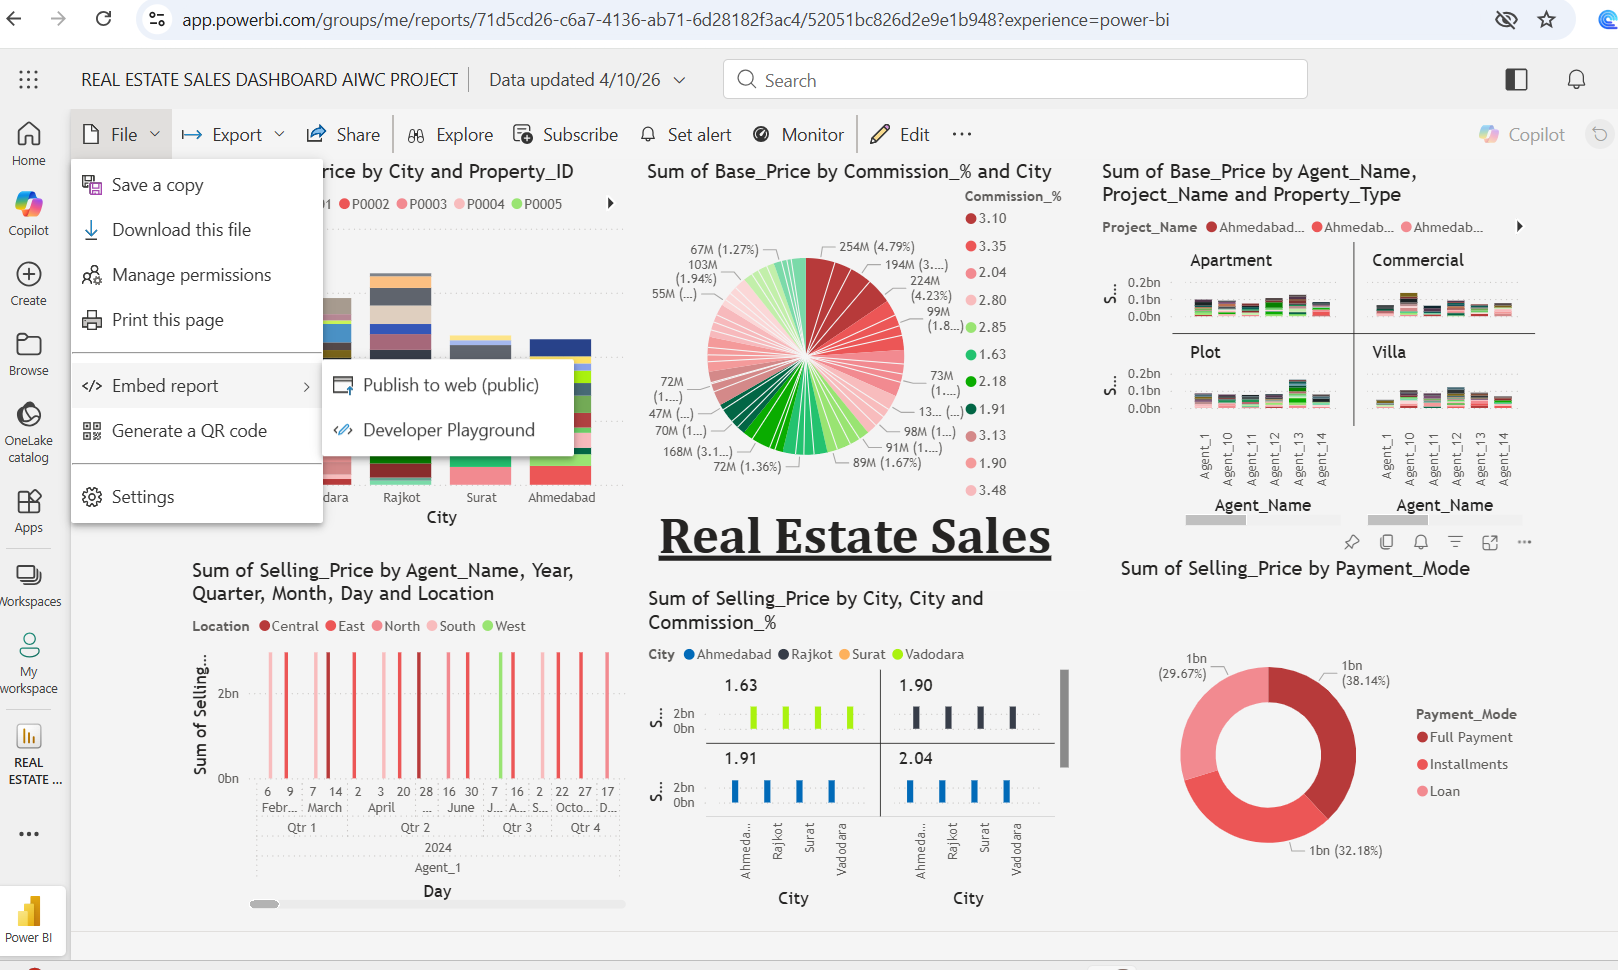

What the dashboard file says about the page in this screenshot:
{"tool":"powerbi","page":{"name":"Page 1","canvas":[1280,720],"ordinal":0},"visuals":[{"type":"columnChart","fields":{"Category":["Agents (2).City"],"Y":["Sum(Properties (2).Base_Price)"],"Series":["Properties (2).Property_ID"]},"box":[9.6,0,414.4,347.2],"z":0},{"type":"clusteredColumnChart","fields":{"Category":["Agents (2).Agent_Name","Properties (2).Listing_Date.Variation.Date Hierarchy.Year","Properties (2).Listing_Date.Variation.Date Hierarchy.Quarter","Properties (2).Listing_Date.Variation.Date Hierarchy.Month","Properties (2).Listing_Date.Variation.Date Hierarchy.Day"],"Series":["Properties (2).Location"],"Y":["Sum(Sales (2).Selling_Price)"]},"box":[9.6,371.9,414.4,332.1],"z":1000},{"type":"pieChart","fields":{"Category":["Agents (2).Commission_%"],"Y":["Sum(Properties (2).Base_Price)"],"Series":["Properties (2).City"]},"box":[434,0,414,347],"z":2000},{"type":"lineStackedColumnComboChart","fields":{"Category":["Agents (2).Agent_Name"],"Series":["Properties (2).Project_Name"],"Rows":["Properties (2).Property_Type"],"Y":["Sum(Properties (2).Base_Price)"]},"box":[858,0,414,347],"z":3000},{"type":"donutChart","fields":{"Y":["Sum(Sales (2).Selling_Price)"],"Category":["Sales (2).Payment_Mode"]},"box":[875,371,397,349],"z":4000},{"type":"clusteredColumnChart","fields":{"Category":["Properties (2).City"],"Series":["Agents (2).City"],"Y":["Sum(Sales (2).Selling_Price)"],"Rows":["Agents (2).Commission_%"]},"box":[434.3,398.6,402.9,305.7],"z":4001},{"type":"textbox","box":[444.3,317.1,404.3,85.7],"z":4002}]}

Visuals, with their boxes on the page's 1280x720 design canvas (x1, y1, x2, y2). These are canvas units, not pixel positions in the 1618x970 screenshot, which may show the page scaled, cropped or inside an application window:
columnChart - Agents (2).City x Sum(Properties (2).Base_Price): bbox(10, 0, 424, 347)
clusteredColumnChart - Agents (2).Agent_Name x Properties (2).Listing_Date.Variation.Date Hierarchy.Year: bbox(10, 372, 424, 704)
pieChart - Agents (2).Commission_% x Sum(Properties (2).Base_Price): bbox(434, 0, 848, 347)
lineStackedColumnComboChart - Agents (2).Agent_Name x Properties (2).Project_Name: bbox(858, 0, 1272, 347)
donutChart - Sum(Sales (2).Selling_Price) x Sales (2).Payment_Mode: bbox(875, 371, 1272, 720)
clusteredColumnChart - Properties (2).City x Agents (2).City: bbox(434, 399, 837, 704)
textbox: bbox(444, 317, 849, 403)
